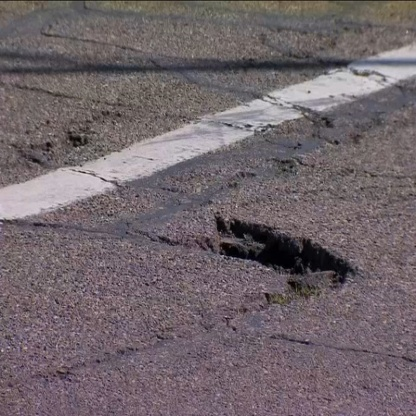pothole: (122, 213, 363, 334)
